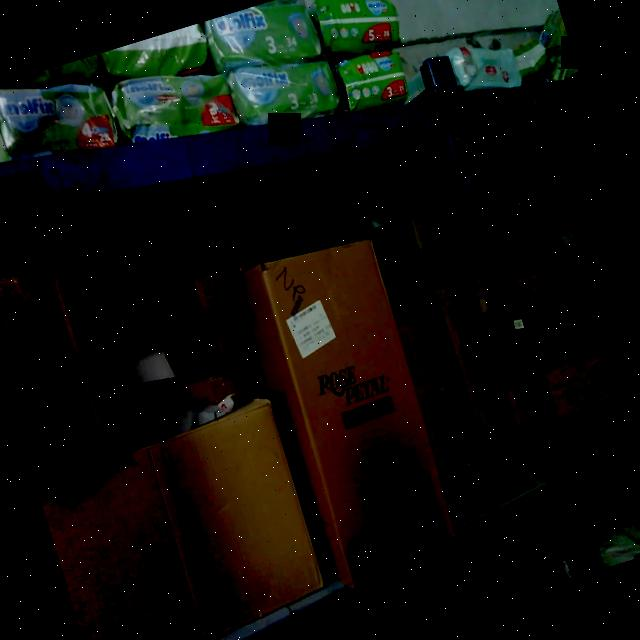box: (32, 401, 336, 640), (258, 229, 462, 584), (0, 260, 111, 477)
